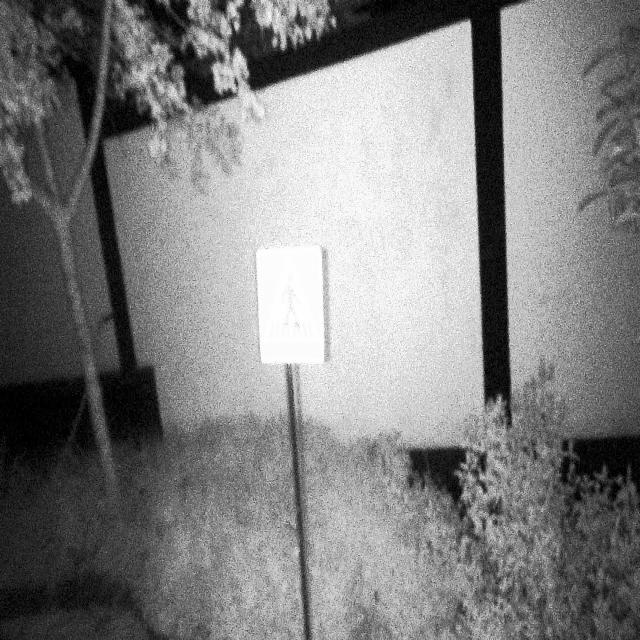Sign: (255, 244, 326, 366)
Tree: (0, 0, 124, 502)
